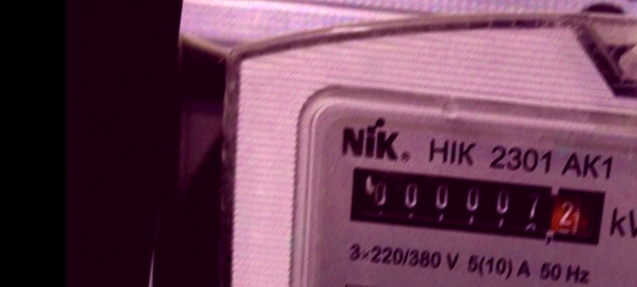0: (431, 182, 452, 211), (401, 180, 421, 210), (370, 179, 390, 208), (493, 186, 512, 216), (463, 184, 481, 212)
2: (557, 198, 576, 229)
7: (522, 191, 542, 222)
screen: (339, 153, 618, 257)
